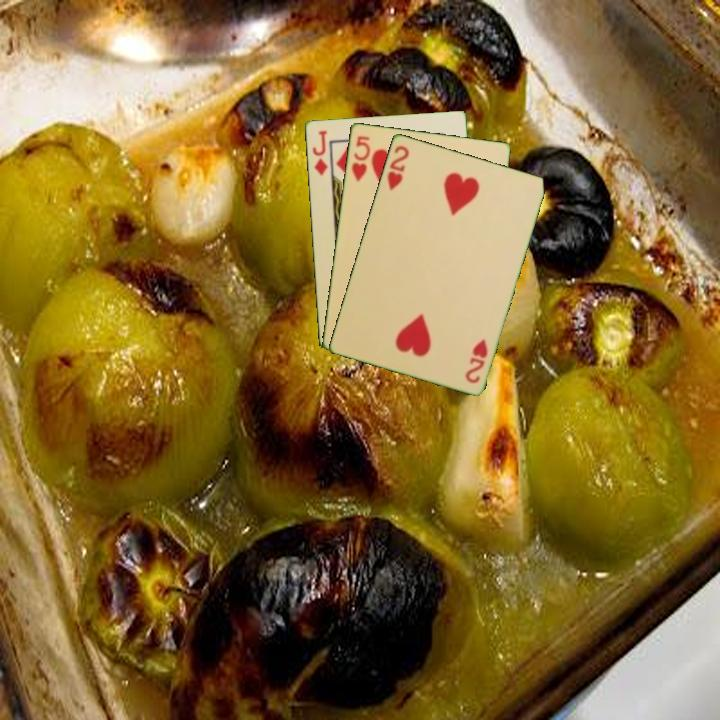2h: (383, 142, 412, 193), (461, 335, 490, 386)
5h: (348, 132, 373, 184)
Jd: (309, 127, 330, 178)
